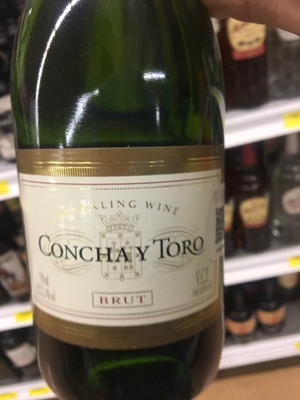brut: (16, 14, 247, 400)
